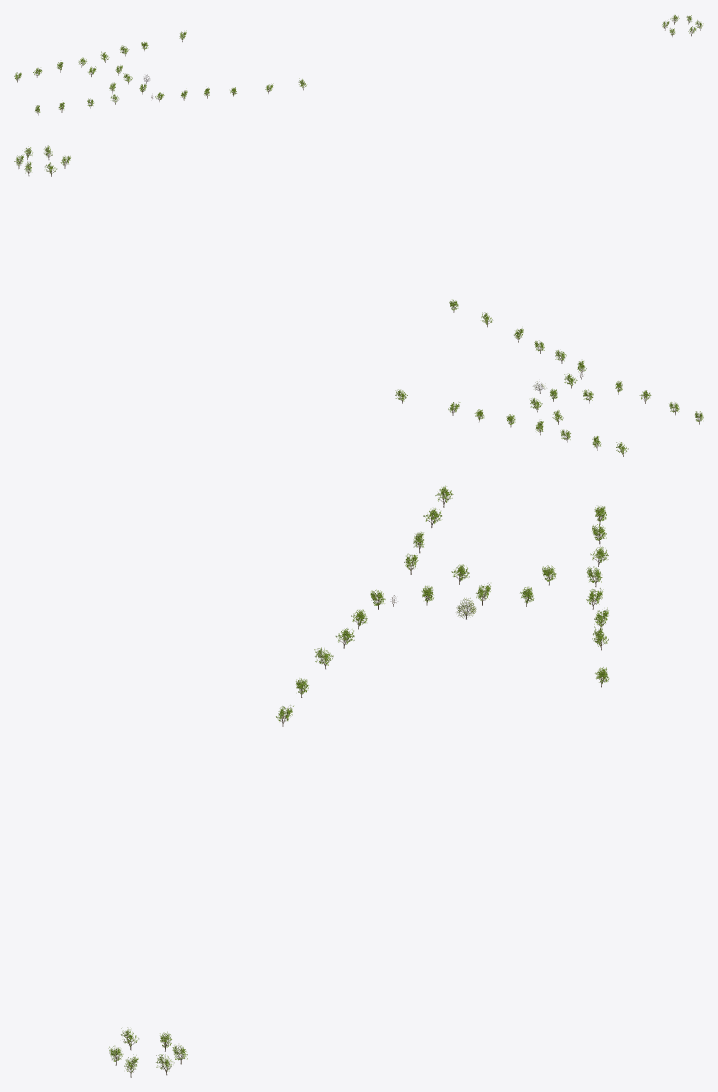
Rendered from env.glb.
The picture shows the model from 3 angles, top to bottom: view 1: azimuth 30°, elevation 25°; view 2: azimuth 150°, elevation 25°; view 3: azimuth 270°, elevation 25°; orthographic projection. The views are drawn at different scales.
Visible parts, largest first — view 1: plants_location; view 2: plants_location; view 3: plants_location.
Part boxes in pixels (left/top/right/bottom): plants_location: left=14, top=15, right=703, bottom=115; plants_location: left=14, top=145, right=703, bottom=456; plants_location: left=108, top=485, right=609, bottom=1077.
Size of the model in its own units: 574 by 11.07 by 211.
Materials: 6 (6 with a texture image).
